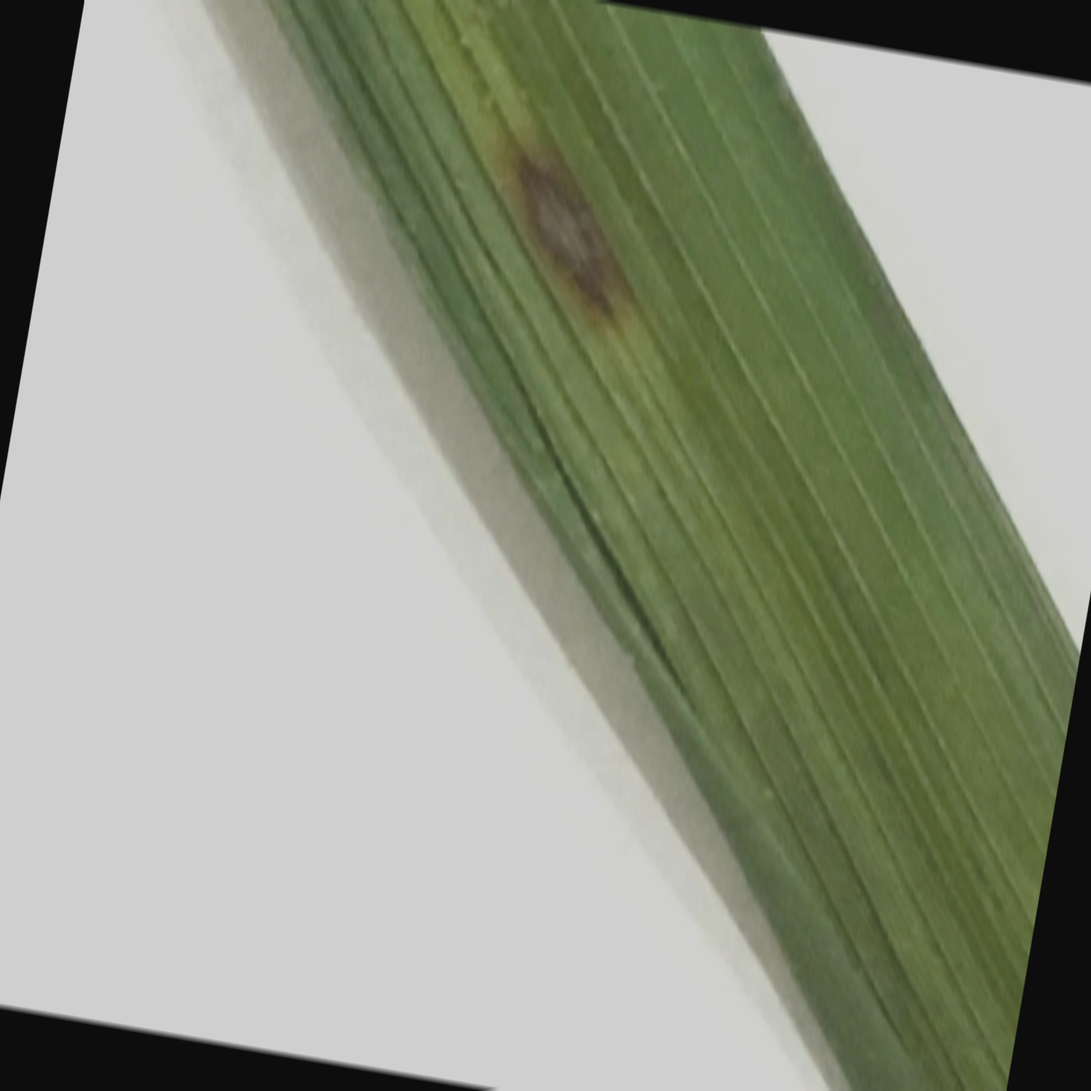Brown_Spot: (490, 96, 650, 340)
